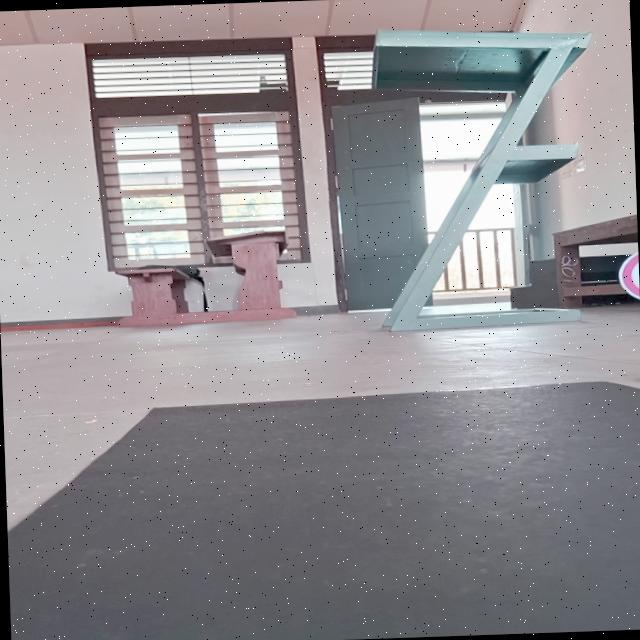Speed20: (612, 241, 640, 308)
